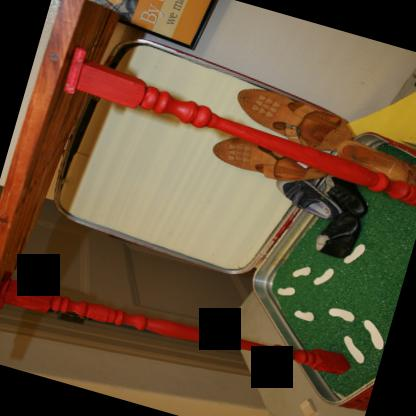suitcase: (54, 38, 416, 409)
